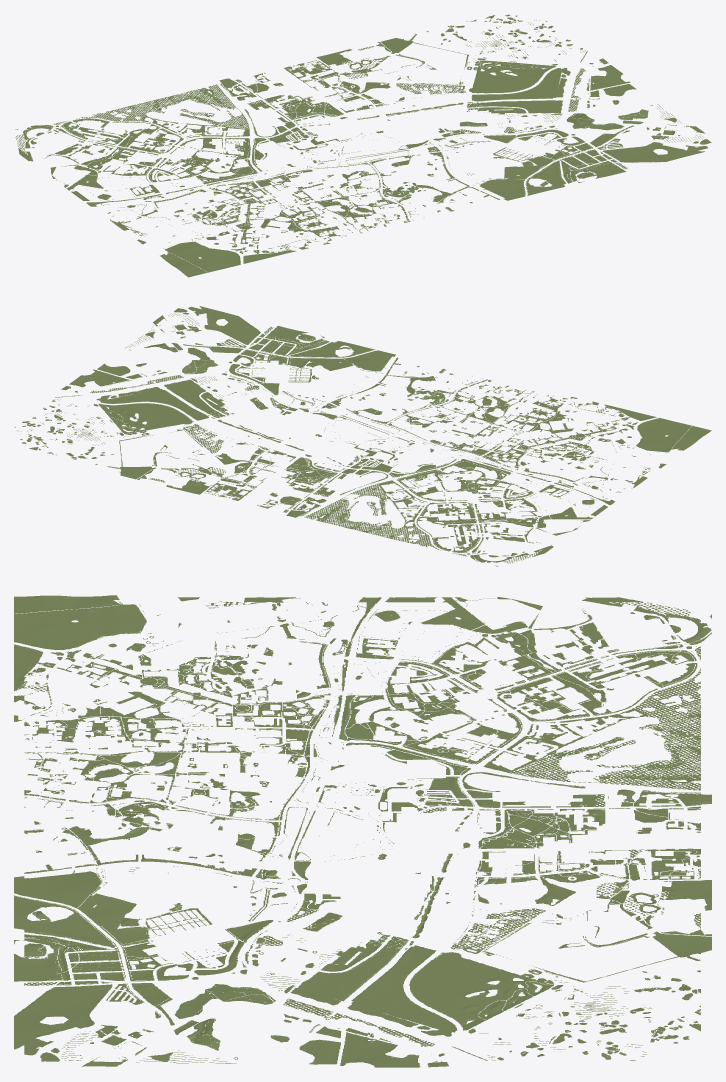
File: road_to_science_markvegetation.glb
3 views of the same model, one above another, from view 1: azimuth 30°, elevation 25°; view 2: azimuth 150°, elevation 25°; view 3: azimuth 270°, elevation 25° (orthographic). The views are drawn at different scales.
Parts seen in each view (by area): view 1: Markvegetation_9_3, Markvegetation_9_6, Markvegetation_10_2, Markvegetation_8_6, Markvegetation_10_3, Markvegetation_0_6, Markvegetation_9_2, Markvegetation_4_0, Markvegetation_10_6, Markvegetation_11_3, Markvegetation_0_7, Markvegetation_7_0 (+36 smaller); view 2: Markvegetation_9_3, Markvegetation_9_6, Markvegetation_8_6, Markvegetation_10_3, Markvegetation_10_2, Markvegetation_0_6, Markvegetation_9_2, Markvegetation_4_0, Markvegetation_7_0, Markvegetation_0_7, Markvegetation_2_1, Markvegetation_10_6 (+35 smaller); view 3: Markvegetation_9_3, Markvegetation_8_6, Markvegetation_9_6, Markvegetation_10_2, Markvegetation_10_3, Markvegetation_0_6, Markvegetation_9_2, Markvegetation_4_0, Markvegetation_0_7, Markvegetation_11_3, Markvegetation_7_0, Markvegetation_2_1 (+60 smaller).
Boxes of the visible parts, x1=… form: Markvegetation_9_3: x1=472, y1=84, x2=540, y2=113; Markvegetation_9_6: x1=551, y1=141, x2=616, y2=169; Markvegetation_10_2: x1=490, y1=55, x2=558, y2=84; Markvegetation_8_6: x1=510, y1=152, x2=572, y2=180; Markvegetation_10_3: x1=516, y1=74, x2=575, y2=103; Markvegetation_0_6: x1=160, y1=239, x2=217, y2=265; Markvegetation_9_2: x1=456, y1=65, x2=514, y2=93; Markvegetation_4_0: x1=175, y1=84, x2=241, y2=106; Markvegetation_10_6: x1=593, y1=130, x2=661, y2=159; Markvegetation_11_3: x1=560, y1=62, x2=628, y2=90; Markvegetation_0_7: x1=174, y1=255, x2=232, y2=277; Markvegetation_7_0: x1=308, y1=49, x2=373, y2=77; Markvegetation_9_3: x1=155, y1=391, x2=223, y2=420; Markvegetation_9_6: x1=233, y1=335, x2=300, y2=362; Markvegetation_8_6: x1=278, y1=346, x2=343, y2=372; Markvegetation_10_3: x1=112, y1=383, x2=180, y2=409; Markvegetation_10_2: x1=93, y1=399, x2=154, y2=428; Markvegetation_0_6: x1=632, y1=431, x2=695, y2=454; Markvegetation_9_2: x1=130, y1=410, x2=193, y2=432; Markvegetation_4_0: x1=304, y1=499, x2=353, y2=527; Markvegetation_7_0: x1=167, y1=468, x2=234, y2=494; Markvegetation_0_7: x1=653, y1=420, x2=710, y2=440; Markvegetation_2_1: x1=413, y1=504, x2=480, y2=532; Markvegetation_10_6: x1=195, y1=324, x2=256, y2=352; Markvegetation_9_3: x1=343, y1=949, x2=435, y2=988; Markvegetation_8_6: x1=68, y1=908, x2=160, y2=949; Markvegetation_9_6: x1=68, y1=948, x2=160, y2=987; Markvegetation_10_2: x1=435, y1=987, x2=527, y2=1026; Markvegetation_10_3: x1=343, y1=988, x2=435, y2=1026; Markvegetation_0_6: x1=68, y1=596, x2=159, y2=635; Markvegetation_9_2: x1=435, y1=949, x2=527, y2=988; Markvegetation_4_0: x1=619, y1=754, x2=700, y2=792; Markvegetation_0_7: x1=14, y1=596, x2=68, y2=635; Markvegetation_11_3: x1=343, y1=1026, x2=435, y2=1065; Markvegetation_7_0: x1=619, y1=870, x2=711, y2=909; Markvegetation_2_1: x1=527, y1=676, x2=619, y2=715.
Bounding box in the file's own units: 3020 × 25.38 × 1900.
